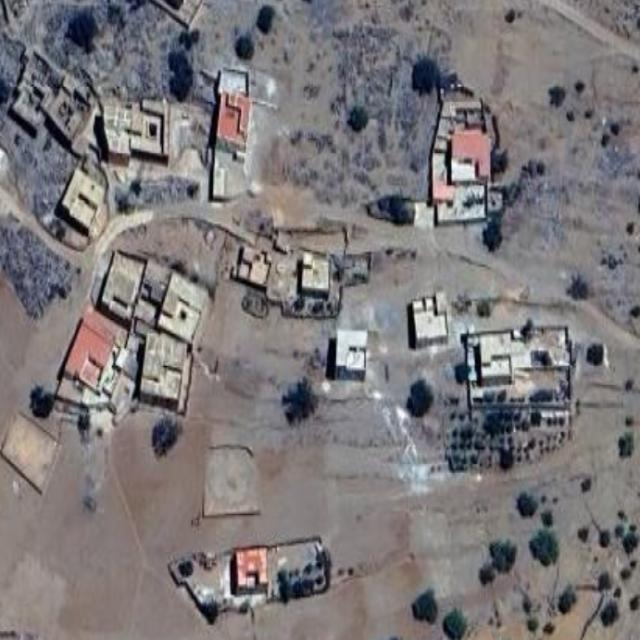Countryside roofs: (422, 91, 514, 231), (450, 322, 580, 416), (25, 54, 92, 158), (97, 85, 172, 172), (131, 327, 199, 422), (205, 68, 269, 159), (52, 313, 118, 400), (222, 530, 286, 617), (101, 240, 144, 329), (156, 278, 218, 338), (58, 163, 108, 235), (402, 293, 459, 353), (329, 324, 376, 387), (297, 249, 339, 306), (232, 244, 273, 294)
